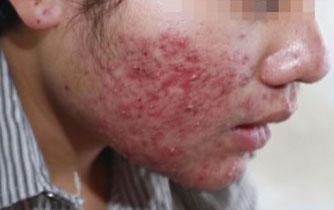fore: (215, 84, 239, 101), (241, 93, 261, 109), (168, 113, 189, 128), (125, 140, 142, 158), (94, 114, 112, 130), (143, 125, 163, 139), (145, 88, 166, 101), (197, 166, 210, 185), (176, 35, 192, 50), (138, 38, 153, 54), (138, 62, 153, 78), (152, 63, 166, 80), (226, 65, 241, 80), (237, 72, 251, 87), (162, 43, 176, 58), (114, 98, 130, 111), (195, 157, 211, 170), (108, 62, 125, 74), (118, 31, 133, 44), (168, 144, 182, 157), (208, 137, 222, 150), (181, 78, 193, 92), (150, 40, 164, 52), (235, 29, 249, 41), (143, 100, 159, 110), (119, 109, 131, 122), (202, 72, 215, 84), (215, 177, 226, 191), (195, 59, 209, 70), (184, 102, 197, 113), (222, 50, 235, 61), (157, 80, 171, 90), (239, 48, 249, 61), (185, 52, 195, 65), (114, 78, 127, 88), (175, 65, 189, 74), (190, 71, 201, 82), (227, 159, 238, 170), (93, 94, 108, 102), (107, 136, 117, 147), (216, 72, 226, 83), (61, 82, 72, 92), (157, 31, 167, 41), (223, 170, 233, 180), (110, 87, 121, 96), (193, 117, 202, 128), (218, 149, 227, 159), (97, 58, 106, 68), (99, 76, 109, 85), (201, 88, 211, 96), (73, 108, 84, 115), (82, 66, 92, 73), (132, 64, 138, 70)
